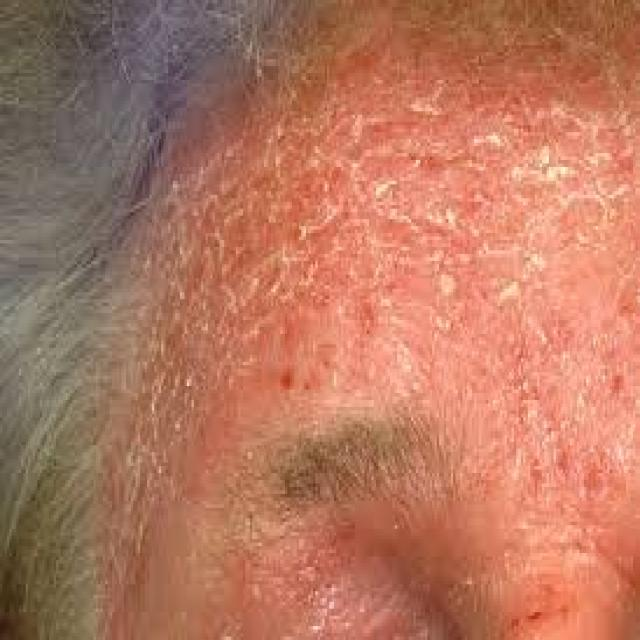Eczema: (166, 159, 604, 390)
